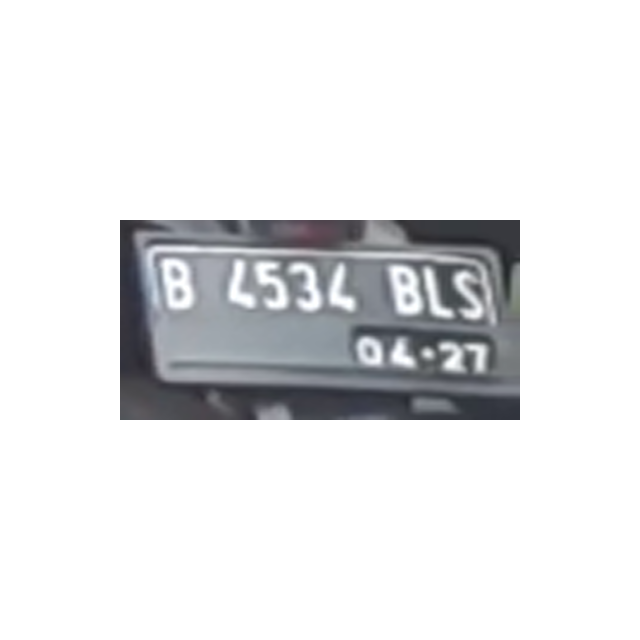contain: (160, 253, 201, 315), (291, 253, 329, 317), (385, 260, 426, 318), (256, 256, 293, 319), (422, 258, 455, 322), (455, 260, 489, 321), (325, 255, 357, 317), (223, 258, 252, 320)
